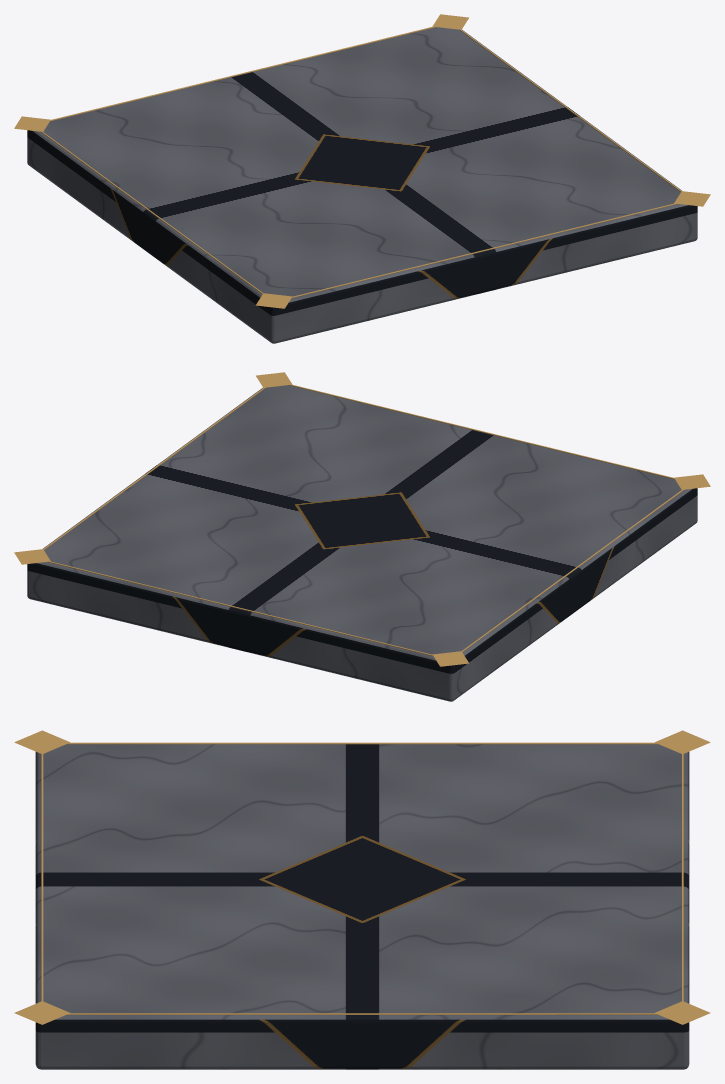
The model's file is DM_Environment_Museum_MarbleFloor_A.fbx.
3 renders of one model, top to bottom at view 1: azimuth 30°, elevation 25°; view 2: azimuth 150°, elevation 25°; view 3: azimuth 270°, elevation 25°, orthographic. The views are drawn at different scales.
Visible parts, largest first — view 1: DM_Environment_Museum_MarbleFloor_A_Delivery_Opaque; view 2: DM_Environment_Museum_MarbleFloor_A_Delivery_Opaque; view 3: DM_Environment_Museum_MarbleFloor_A_Delivery_Opaque.
Part boxes in pixels (x1,y1,x2,y2): DM_Environment_Museum_MarbleFloor_A_Delivery_Opaque: (14,14,710,343); DM_Environment_Museum_MarbleFloor_A_Delivery_Opaque: (14,372,710,701); DM_Environment_Museum_MarbleFloor_A_Delivery_Opaque: (14,730,710,1069).
Size of the model in its own units: 1.06 by 0.093 by 1.06.
2 materials, 1 textured.
